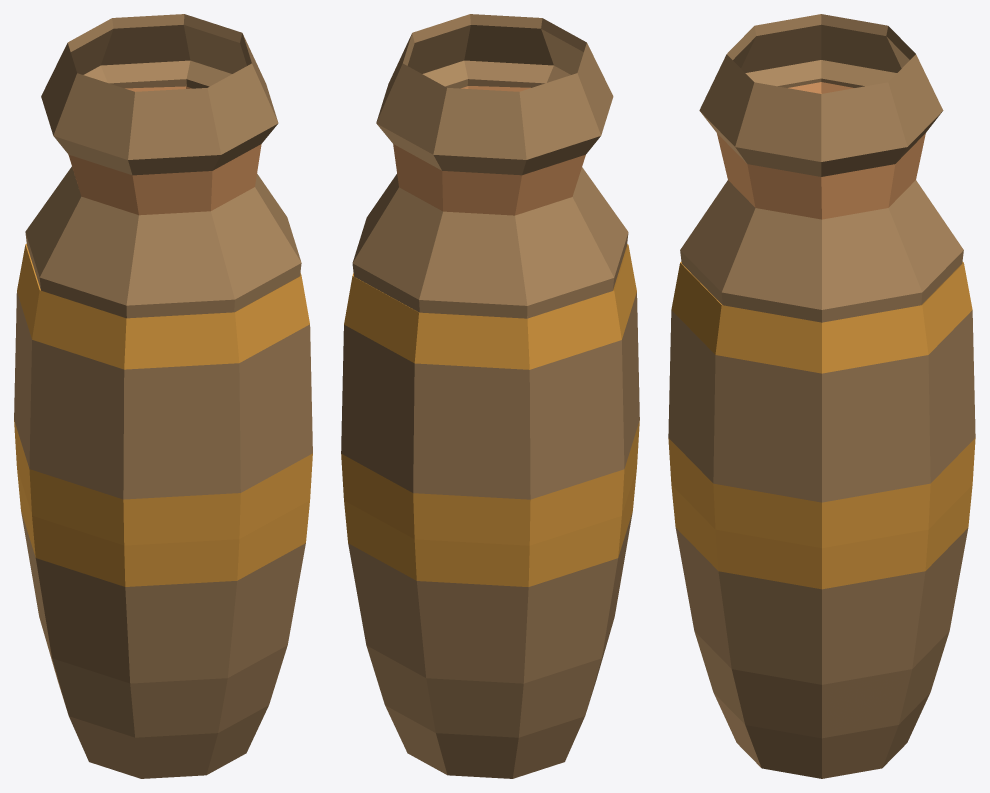
The model's file is SL_Vase1.fbx.
The picture shows the model from 3 angles, left to right: view 1: azimuth 30°, elevation 25°; view 2: azimuth 150°, elevation 25°; view 3: azimuth 270°, elevation 25°; orthographic projection.
Parts seen in each view (by area): view 1: Jarron2.001; view 2: Jarron2.001; view 3: Jarron2.001.
Boxes of the visible parts, x1=… form: Jarron2.001: x1=14, y1=14, x2=312, y2=778; Jarron2.001: x1=341, y1=14, x2=639, y2=778; Jarron2.001: x1=668, y1=14, x2=975, y2=778.
Bounding box in the file's own units: 131 × 322 × 131.
